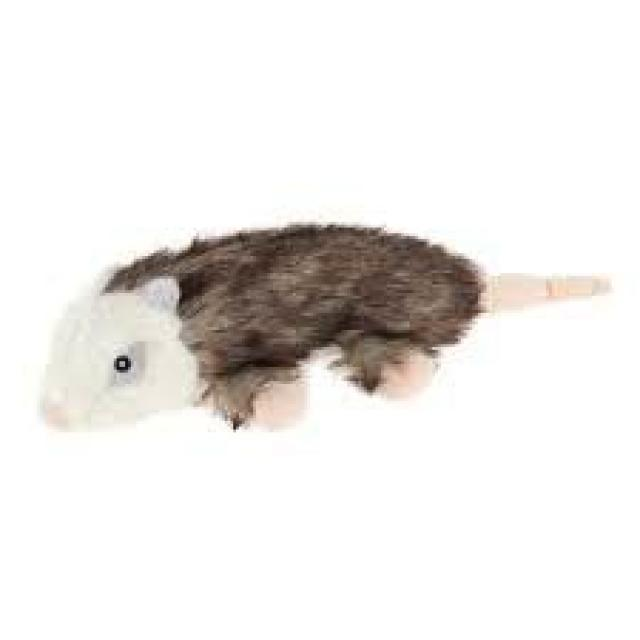possum: (46, 225, 606, 427)
